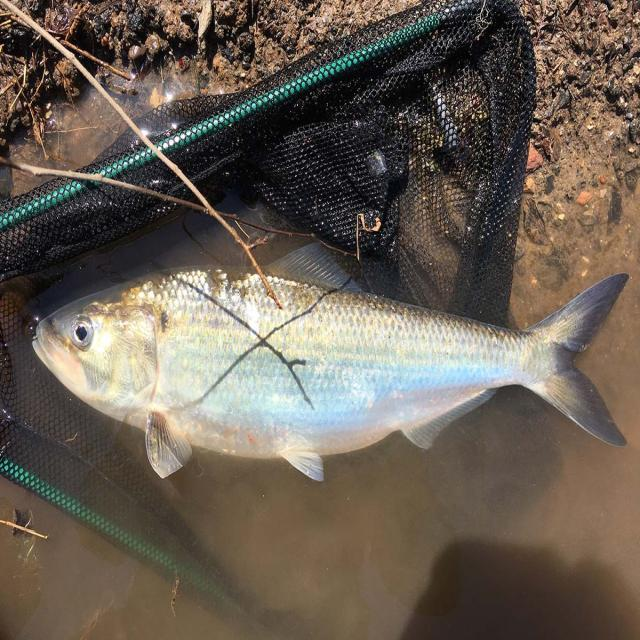Shad - American: (33, 270, 627, 480)
